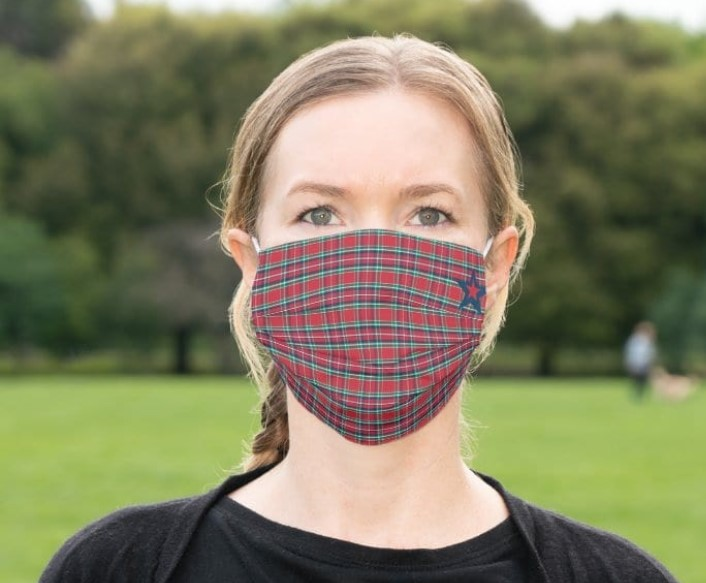face_with_mask: (227, 47, 522, 444)
